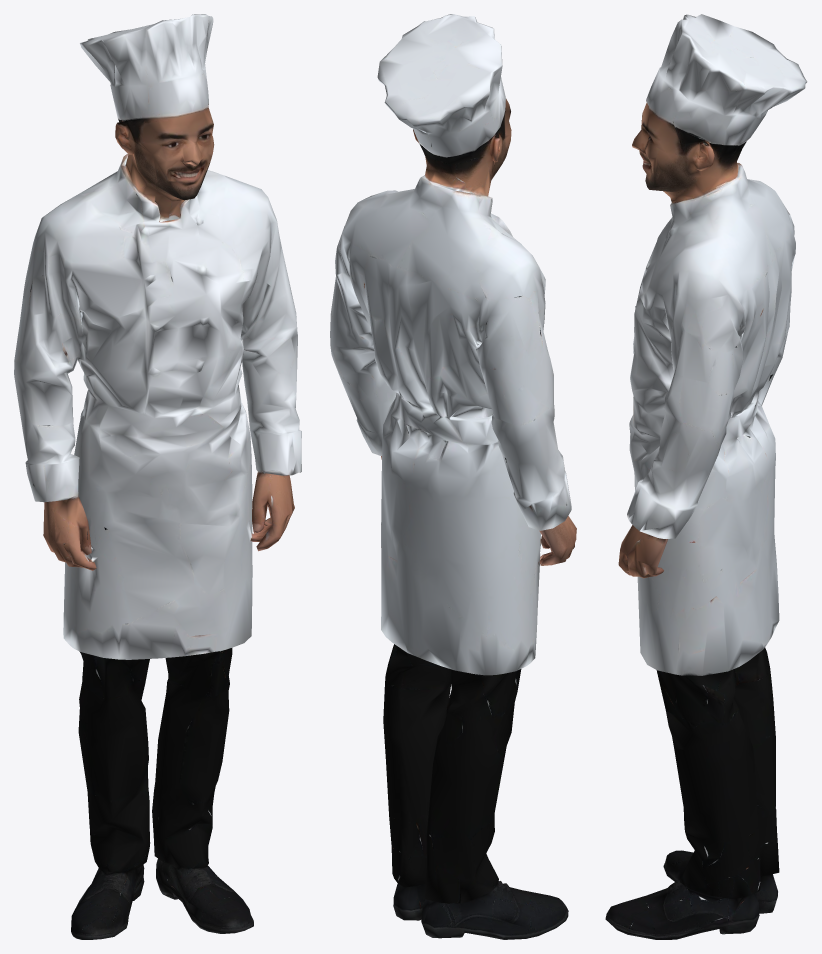
Rendered from chef-lite.glb.
3 renders of one model, left to right at view 1: azimuth 30°, elevation 25°; view 2: azimuth 150°, elevation 25°; view 3: azimuth 270°, elevation 25°, orthographic.
Size of the model in its own units: 0.5462 by 1.9 by 0.3896.
Materials: 1 (1 with a texture image).
